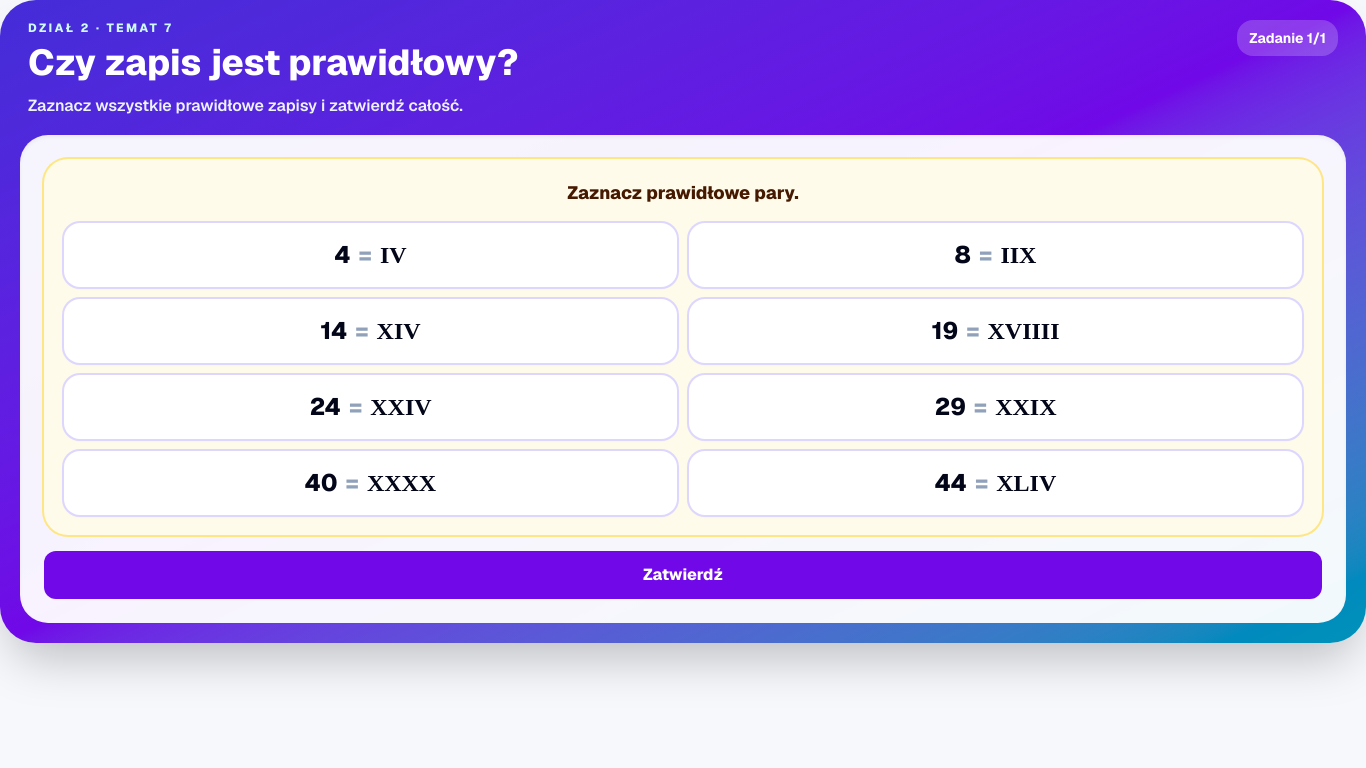
it: Grade4RomanNumeralsLessonLab › checks all correct natural-Roman pairs as one task
Click the button with aria-label "4 = IV".
click(370, 255)  # box top-left (64, 223), bottom-right (677, 287)
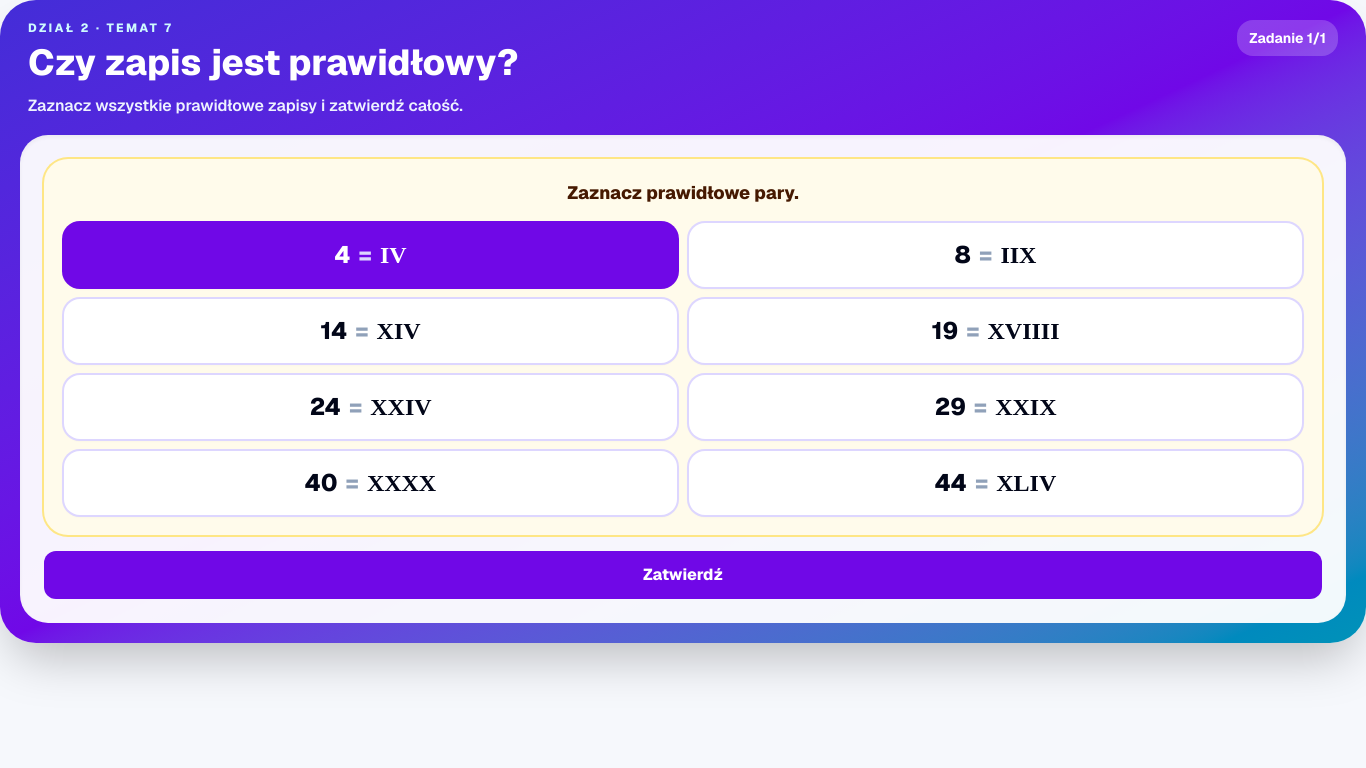
Click the button with aria-label "14 = XIV".
click(370, 331)  # box top-left (64, 299), bottom-right (677, 363)
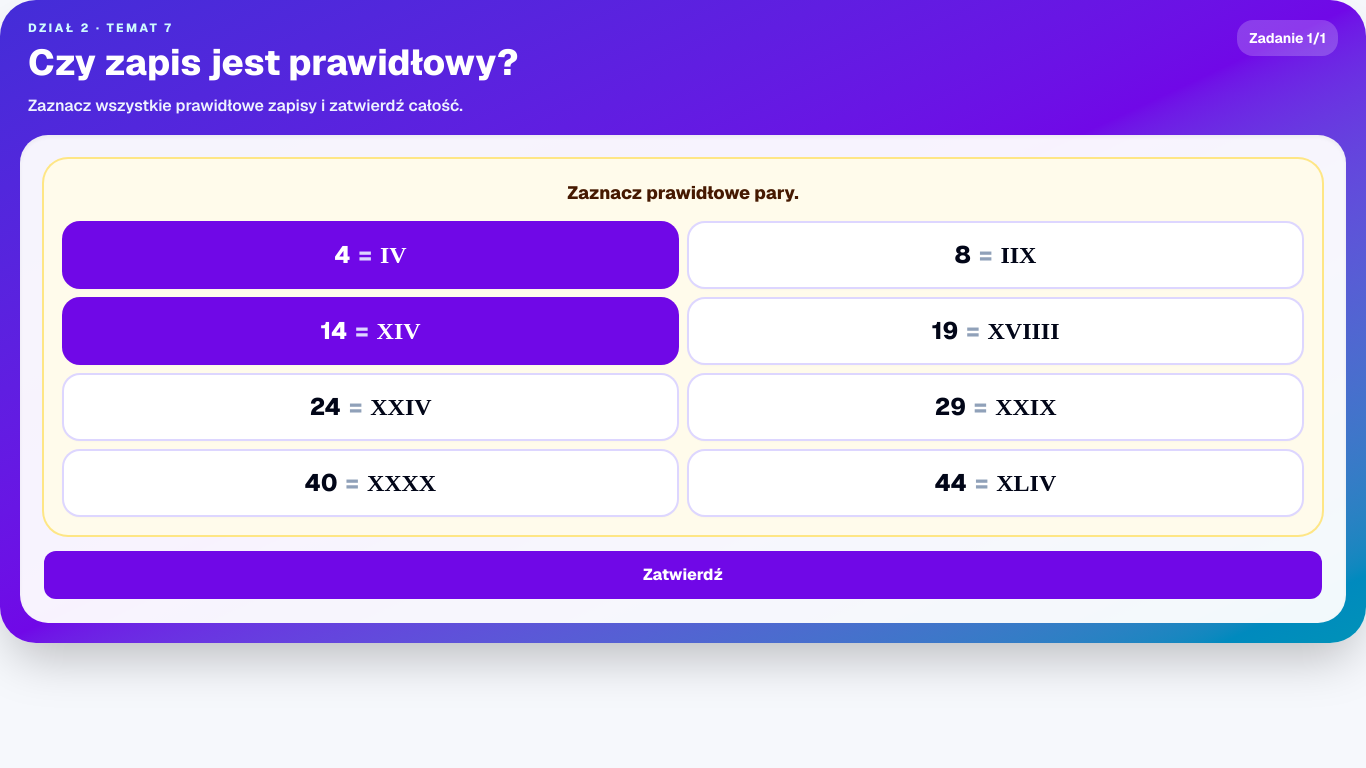
Click the button with aria-label "24 = XXIV".
click(370, 407)  # box top-left (64, 375), bottom-right (677, 439)
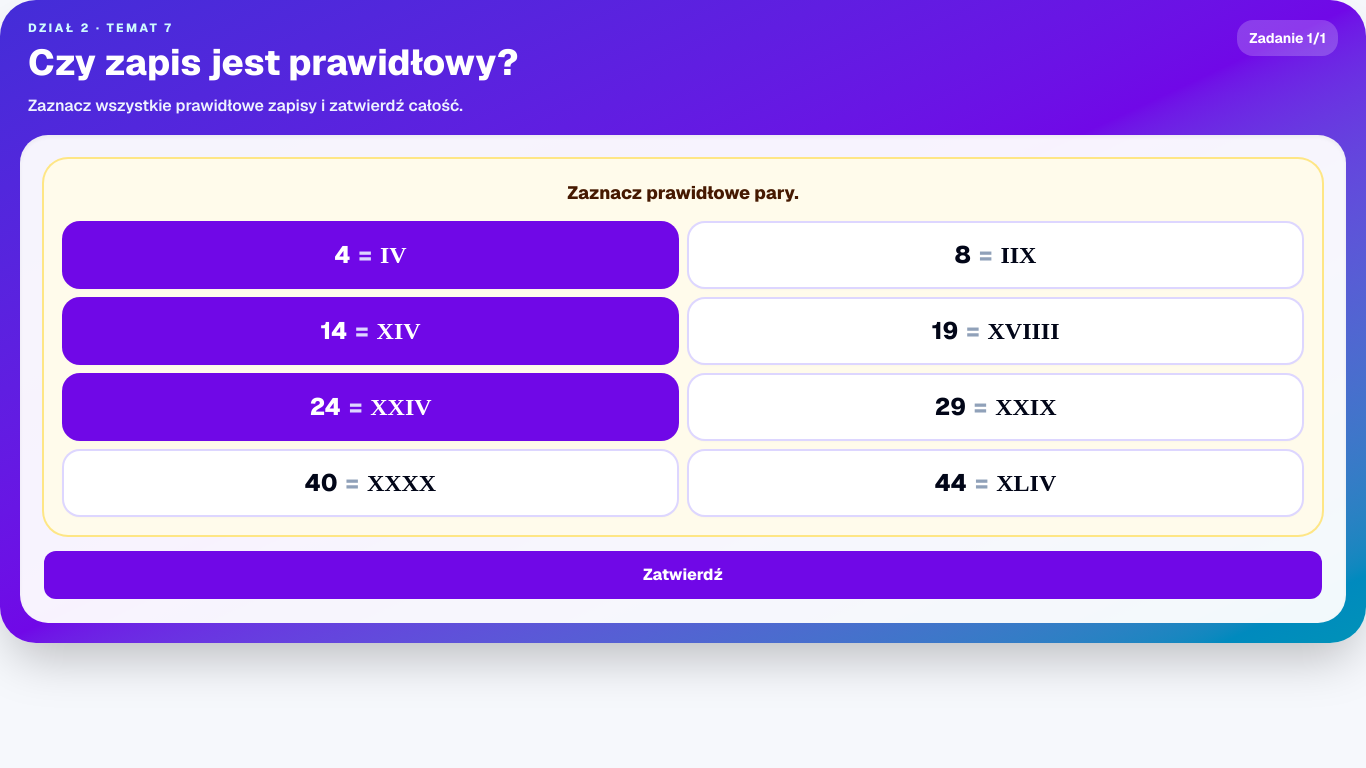
Click the button with aria-label "29 = XXIX".
click(996, 407)  # box top-left (689, 375), bottom-right (1302, 439)
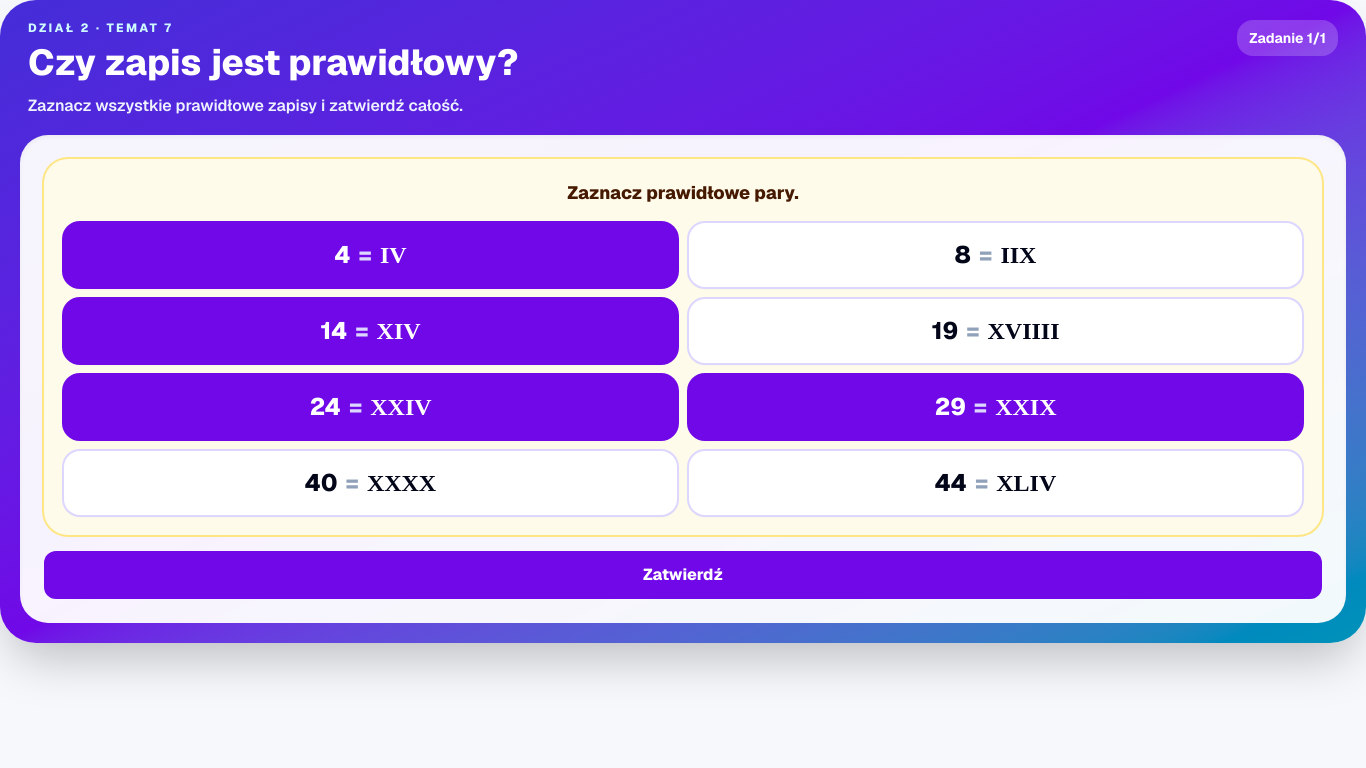
Click the button with aria-label "44 = XLIV".
click(996, 483)  # box top-left (689, 451), bottom-right (1302, 515)
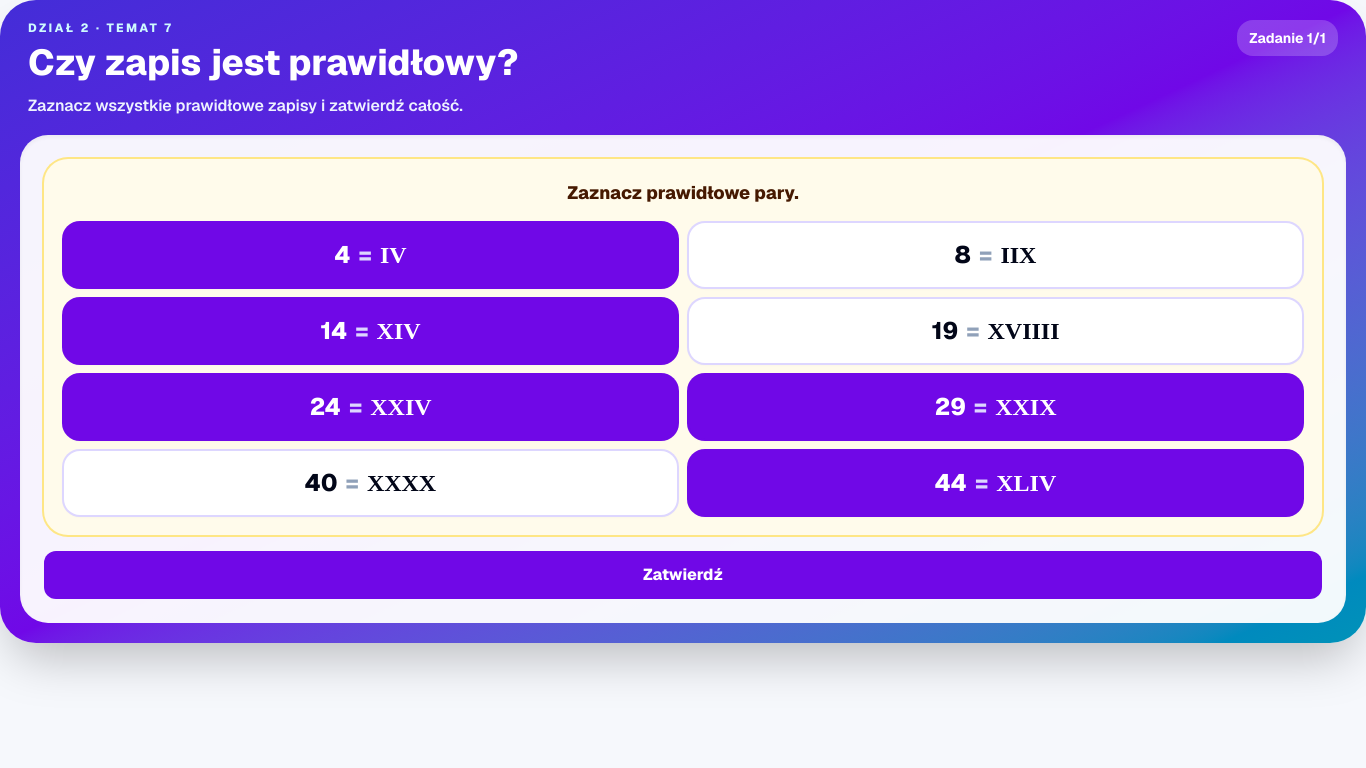
Click the button "Zatwierdź".
click(683, 575)  # box top-left (44, 551), bottom-right (1322, 599)
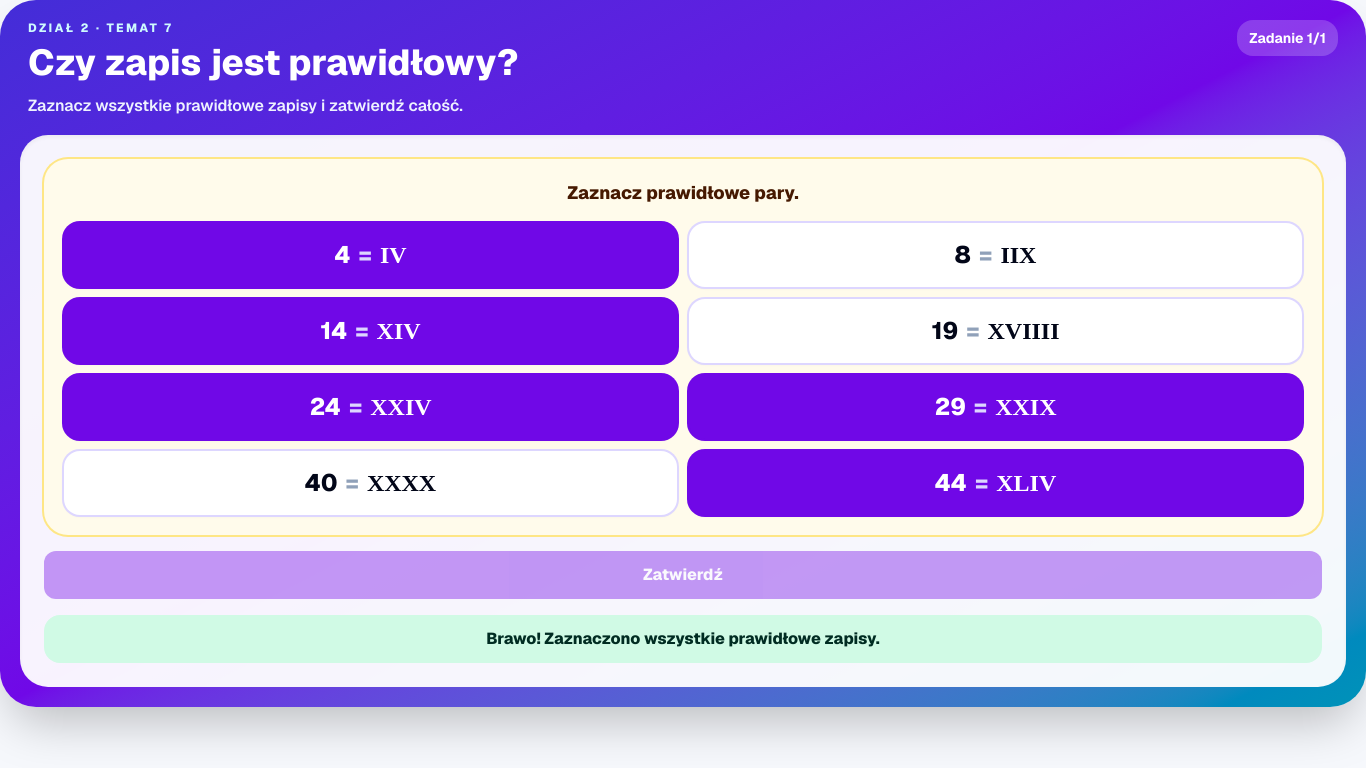
Expected: the text "Brawo! Zaznaczono wszystkie prawidłowe zapisy." is shown, top-left (44, 615), bottom-right (1322, 663)
